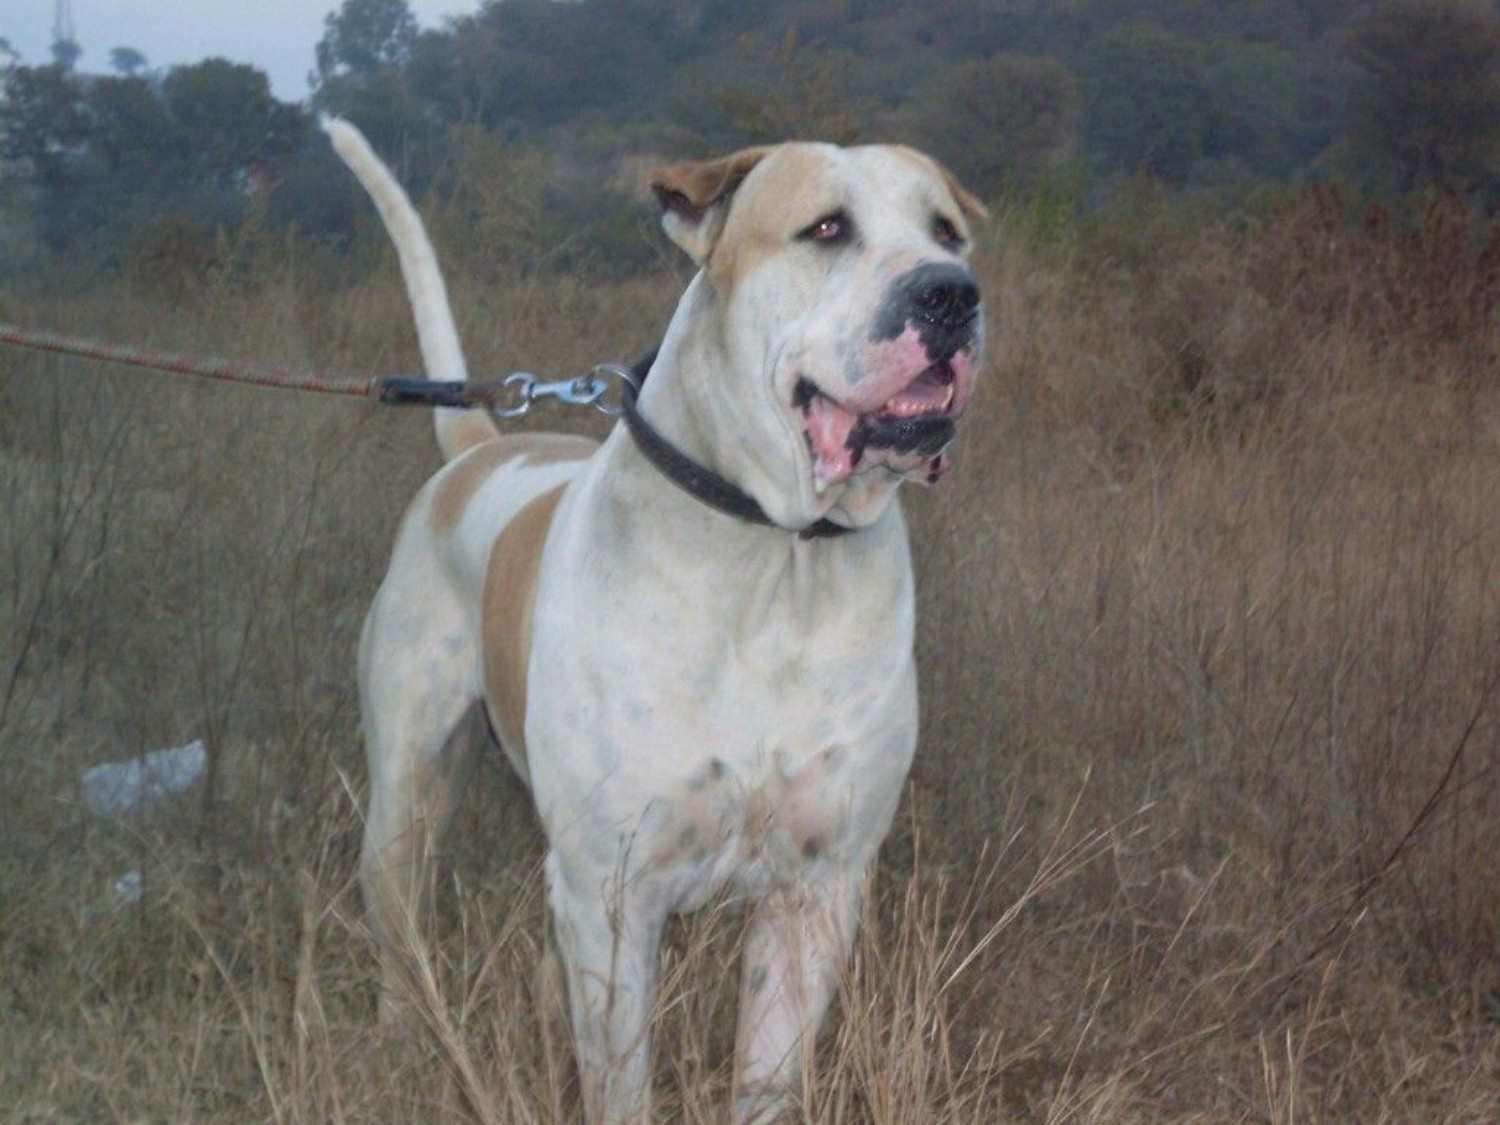mastiff: (313, 110, 989, 1125)
